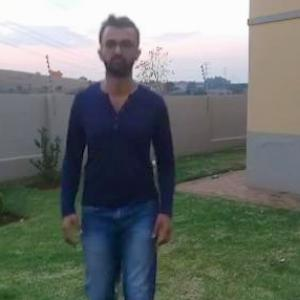follow: (57, 5, 176, 299)
